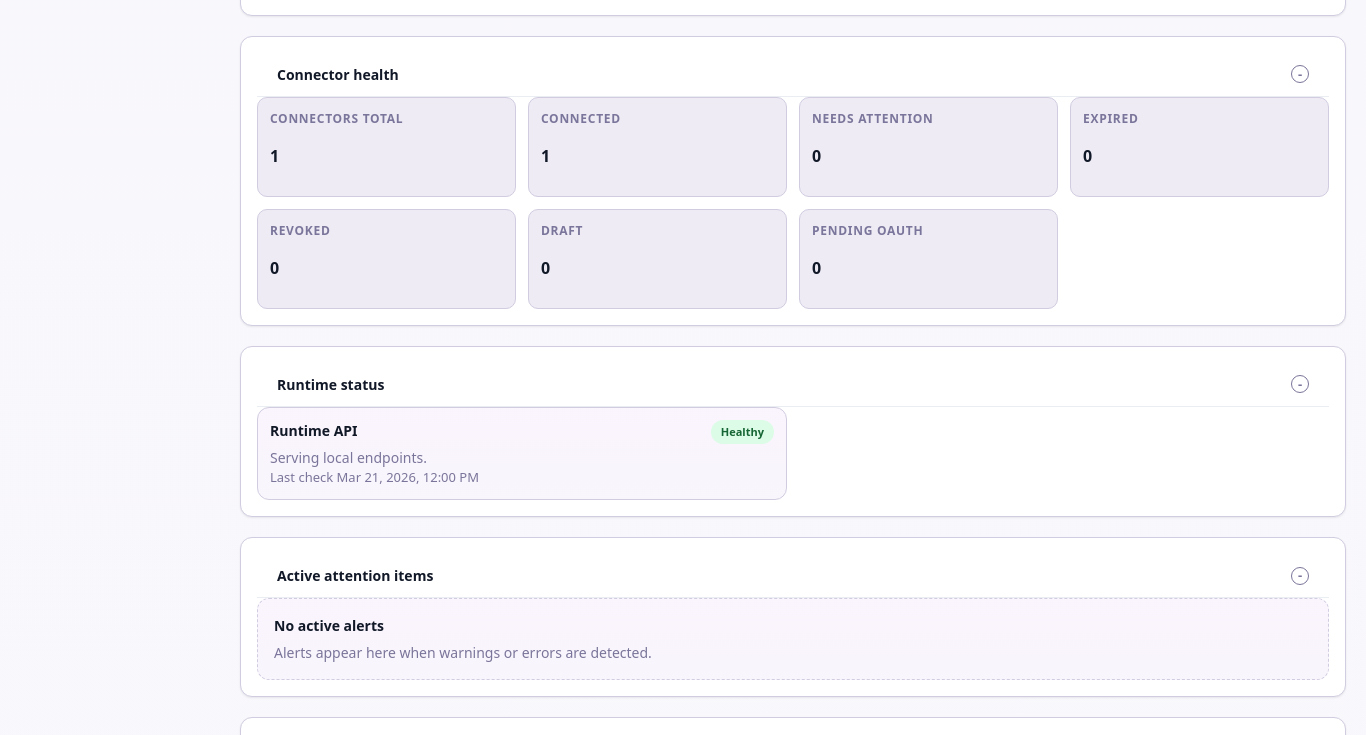
Test case: DashboardApp › collapses and expands the home services section
(page scrolled)
Expected: the heading with id "dashboard-service-title-runtime-api" reads "Runtime API", [270,420,358,440]
Expected: the element with id "dashboard-overview-services-body" is shown, [257,406,787,500]
Click the button with aria-label "collapse runtime status": (331, 384) [257,362,1329,406]
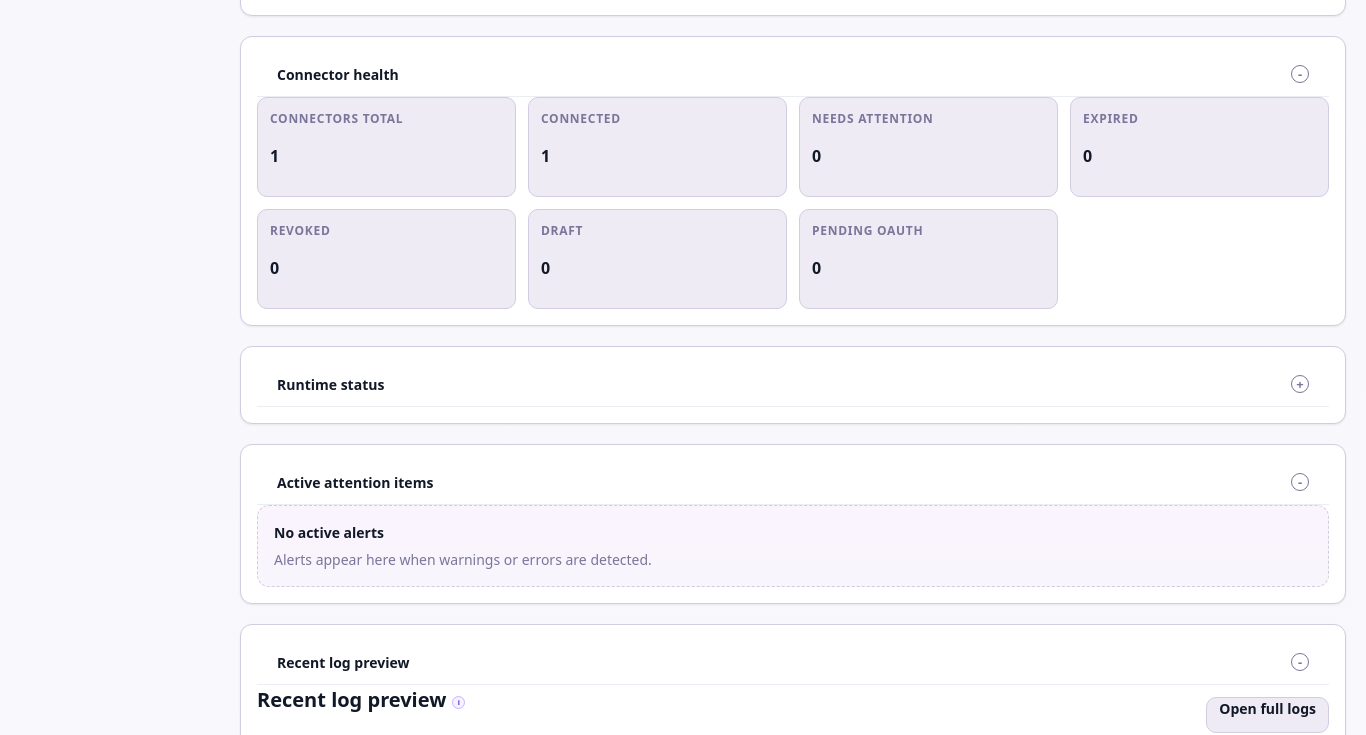
Result: the element with id "dashboard-overview-services-body" is gone
Click the button with aria-label "expand runtime status": (331, 384) [257,362,1329,406]
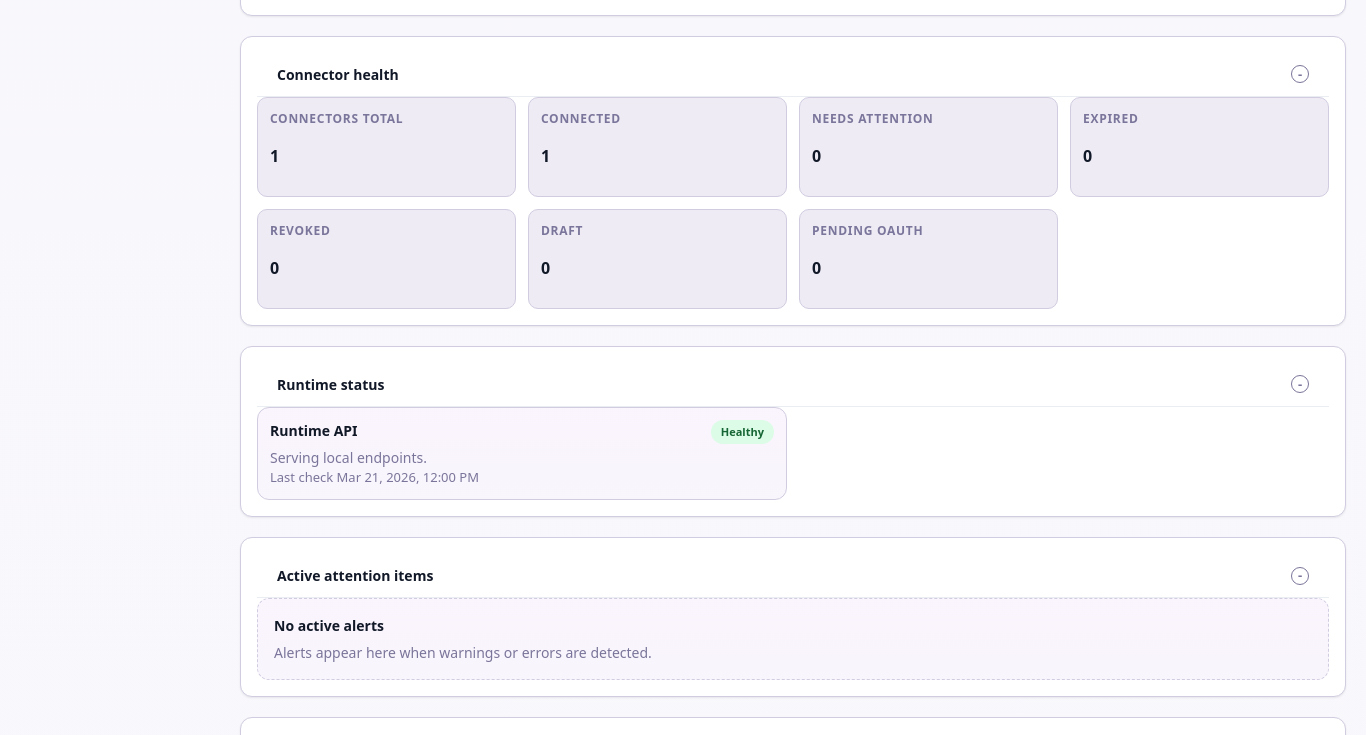
Result: the element with id "dashboard-overview-services-body" is shown at [257,406,787,500]
